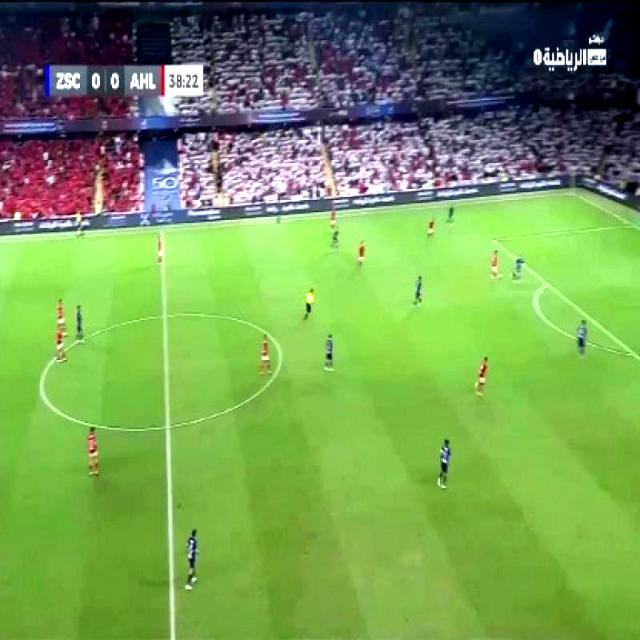bigarea_top_inner: (486, 231, 499, 246)
bigarea_top_outter: (626, 218, 639, 232)
bottom_arc_area_intersection: (626, 344, 639, 362)
corner: (564, 186, 578, 199)
halfcircle_bottom: (155, 411, 177, 439)
halfcircle_top: (154, 302, 176, 328)
midline_top_intersection: (153, 225, 172, 239)
top_arc_area_intersection: (540, 276, 552, 290)
